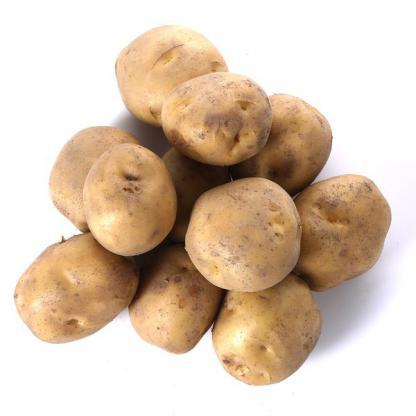potato: (182, 164, 315, 306), (208, 257, 352, 384), (272, 162, 414, 290), (15, 223, 167, 341), (139, 236, 242, 367), (219, 76, 328, 194), (108, 22, 233, 124), (155, 73, 281, 157), (82, 134, 166, 250)
